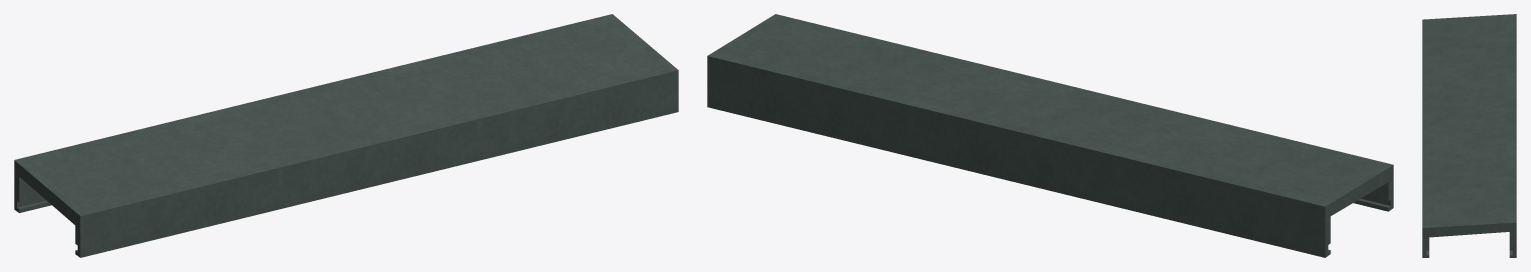
Rendered from modern-parapet-cap.lod0.glb.
3 views of the same model, side by side, from view 1: azimuth 30°, elevation 25°; view 2: azimuth 150°, elevation 25°; view 3: azimuth 270°, elevation 25° (orthographic). The views are drawn at different scales.
Visible parts, largest first — view 1: modern-parapet-cap; view 2: modern-parapet-cap; view 3: modern-parapet-cap.
Boxes of the visible parts, x1,y1,x2,y2 form: modern-parapet-cap: (14, 14, 678, 257); modern-parapet-cap: (707, 14, 1393, 257); modern-parapet-cap: (1422, 14, 1516, 257).
Size of the model in its own units: 2.4 by 0.19 by 0.46.
Materials: 1 (1 with a texture image).
